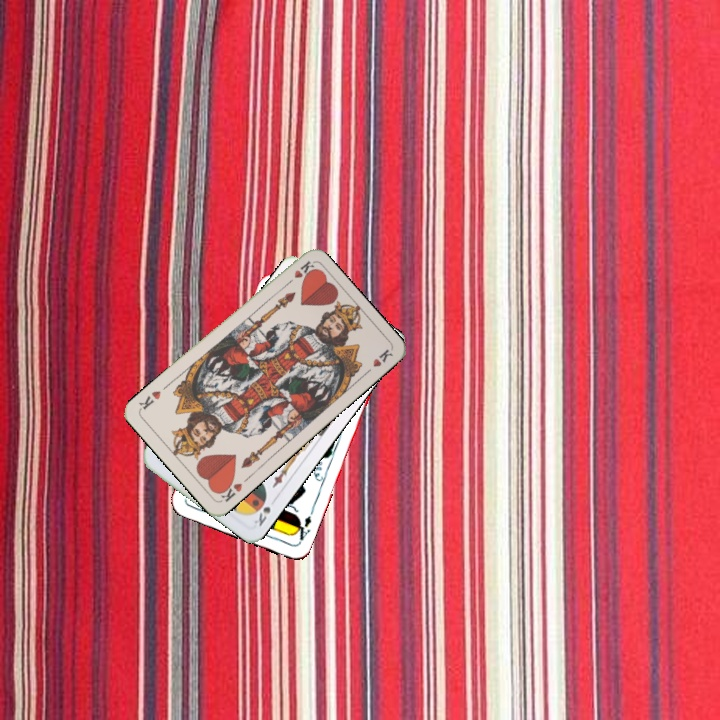EA: (289, 512, 314, 546)
HK: (214, 473, 251, 505), (280, 257, 315, 290)
SK: (250, 493, 273, 529)
